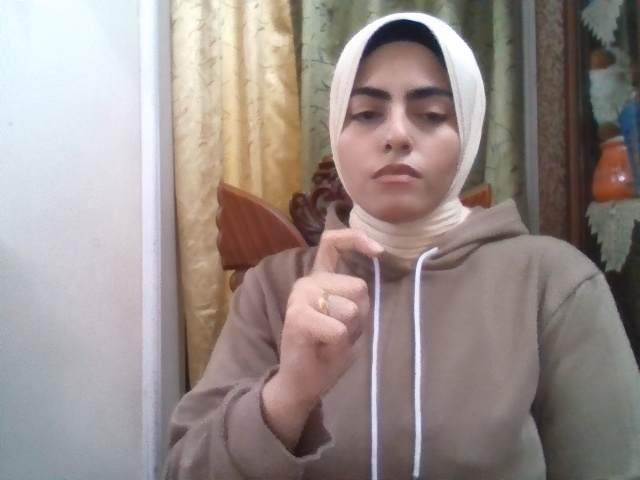X: (279, 227, 383, 401)
